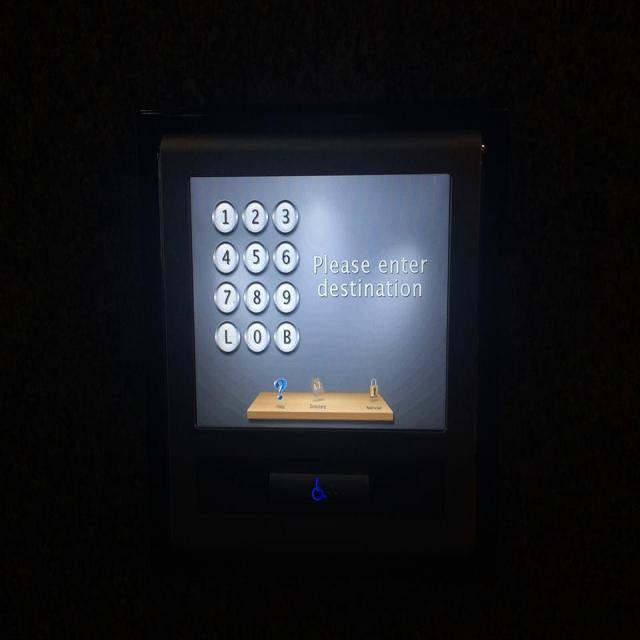0: (243, 318, 270, 357)
1: (210, 196, 239, 236)
2: (240, 197, 269, 236)
3: (270, 197, 299, 236)
4: (210, 237, 240, 275)
5: (241, 234, 269, 276)
6: (270, 236, 300, 276)
7: (211, 278, 241, 316)
8: (241, 276, 270, 318)
9: (270, 278, 300, 316)
B: (272, 318, 300, 356)
L: (211, 318, 241, 357)
